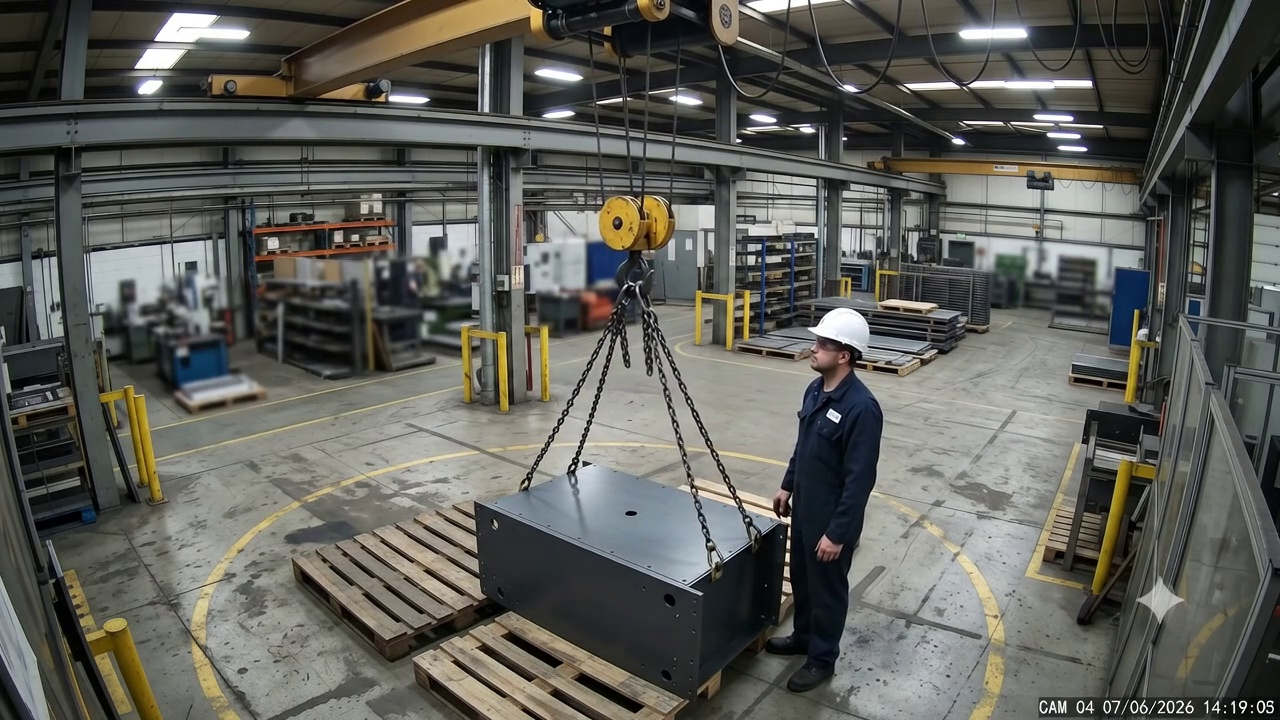person: (765, 306, 885, 697)
